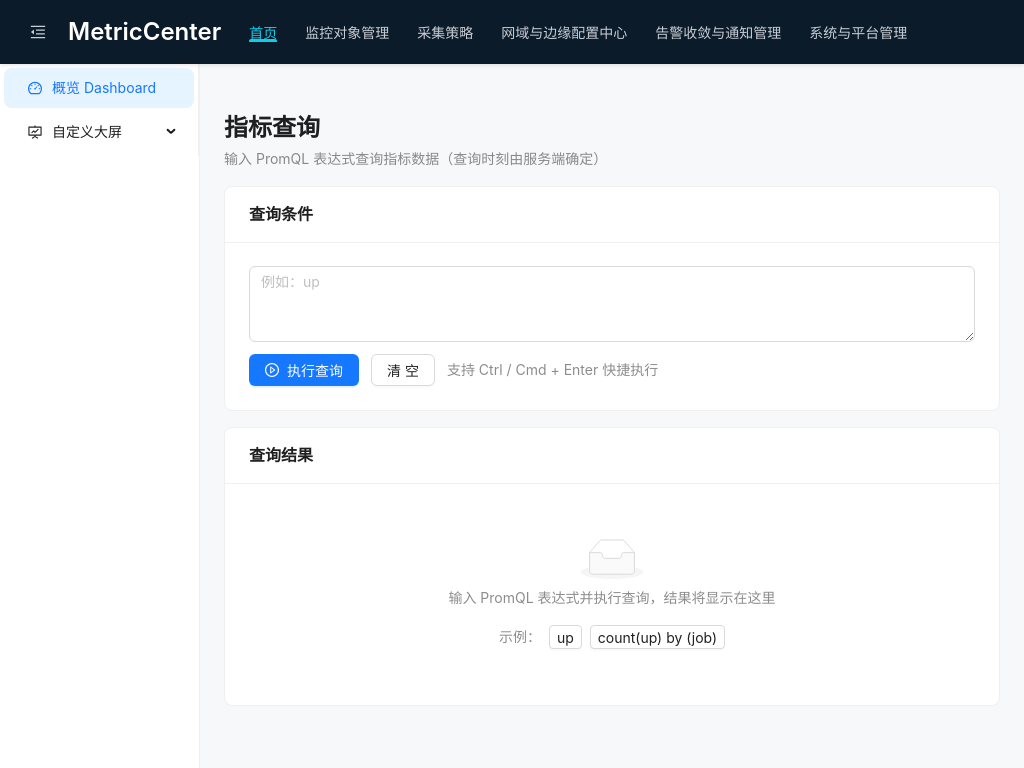
it: QueryPage › 网络异常时展示错误态
Type "up" into the text box named "PromQL 表达式". click: (612, 304)
box: [249,266,975,342]
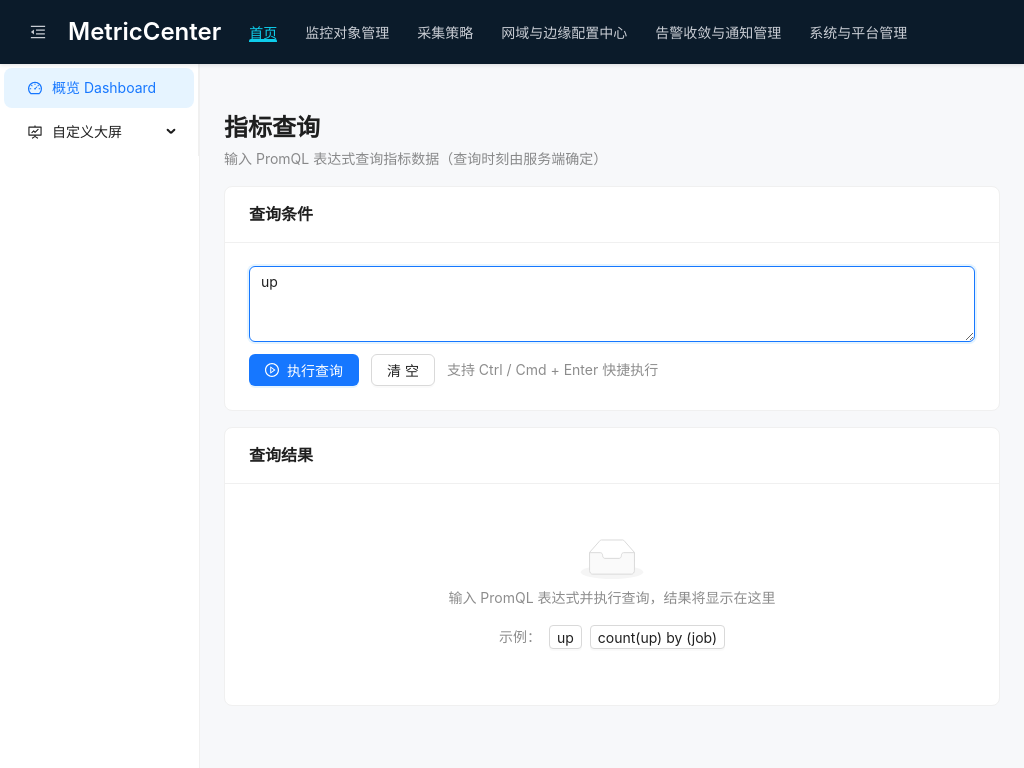
Click the button "执行查询". click: (304, 370)
box: [249,354,359,386]
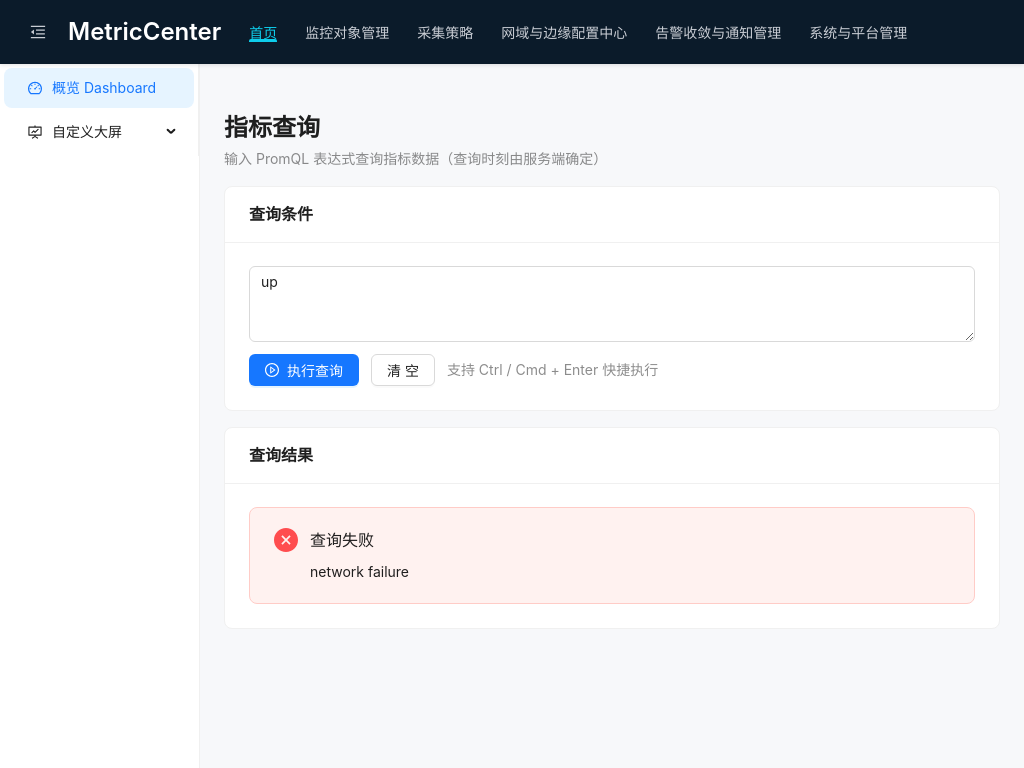
Now the text "查询失败" is shown, box [310,530,374,550]
Now the text "network failure" is shown, box [310,563,409,580]
